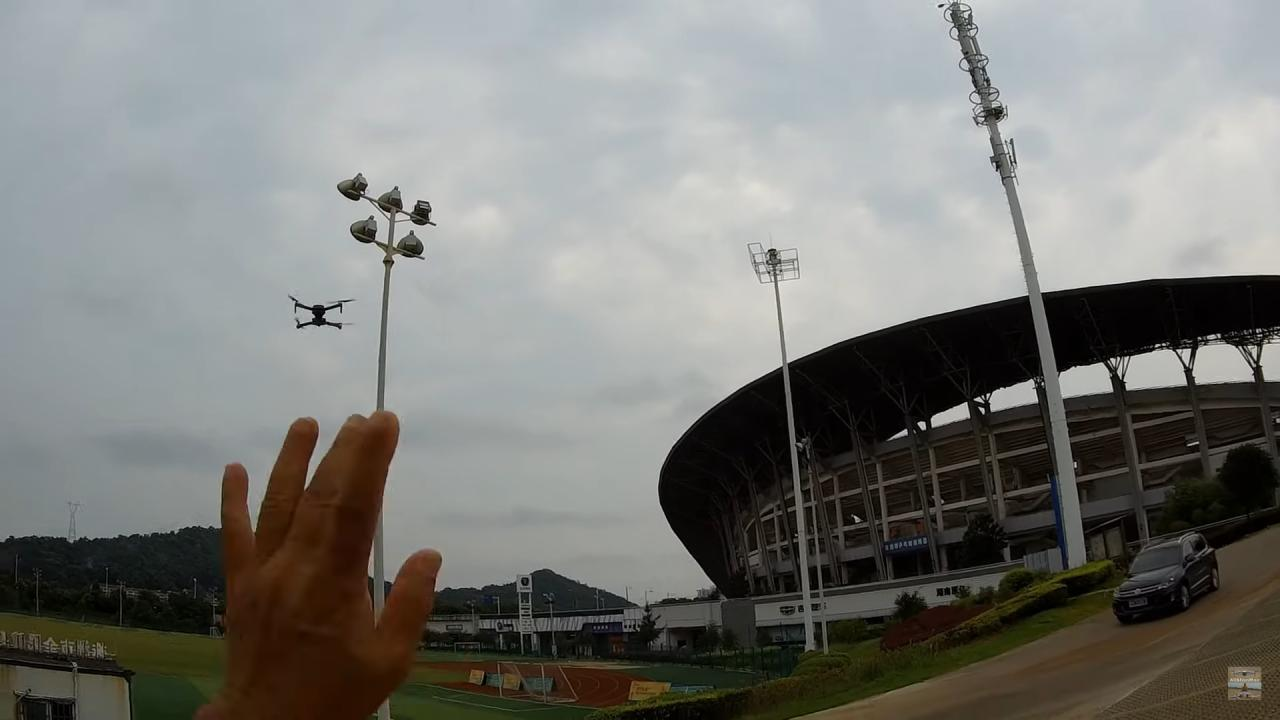Drone: (274, 288, 366, 340)
